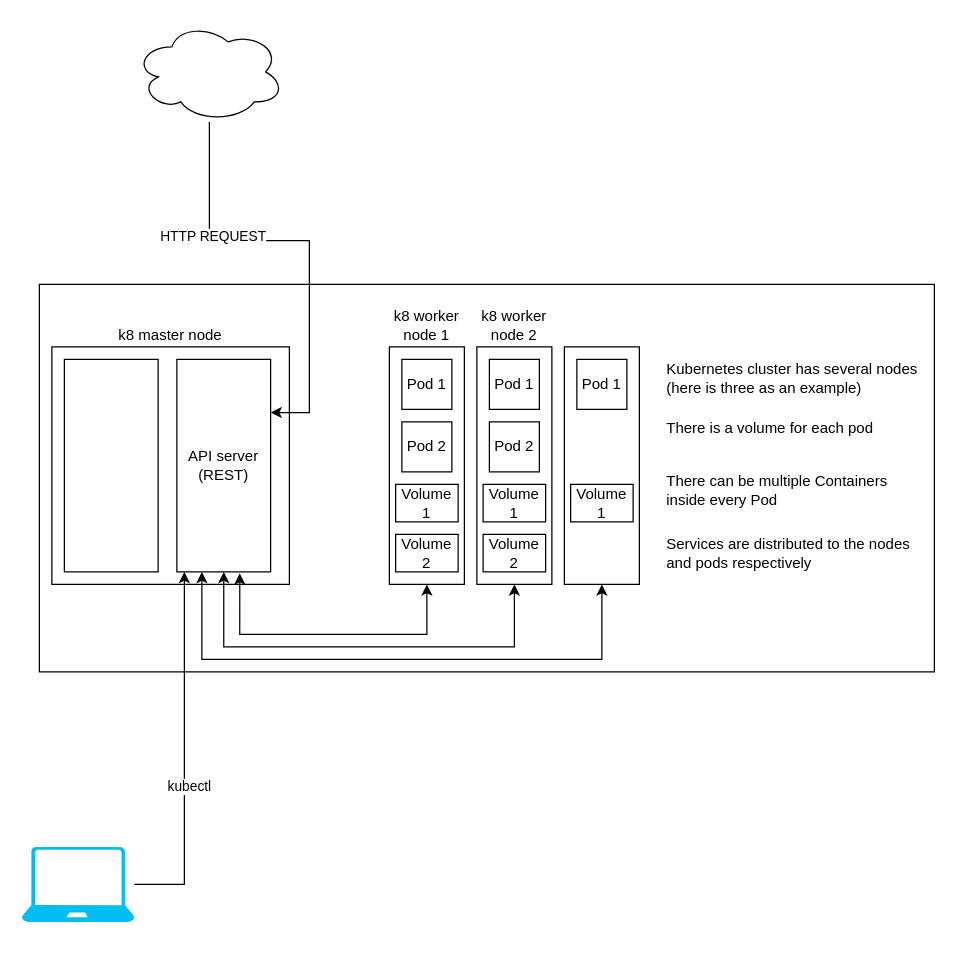
Image size: 960x970. Some labels were removed from this diagram. The box of each missing label's shape, as (x1, y1, x2, y2) in pixels:
Controller manager: (63, 358, 158, 572)
Internet: (133, 21, 284, 122)
k8 cluster: (38, 283, 934, 672)
k8 worker node 3: (563, 346, 639, 584)
My machine: (21, 846, 134, 921)
